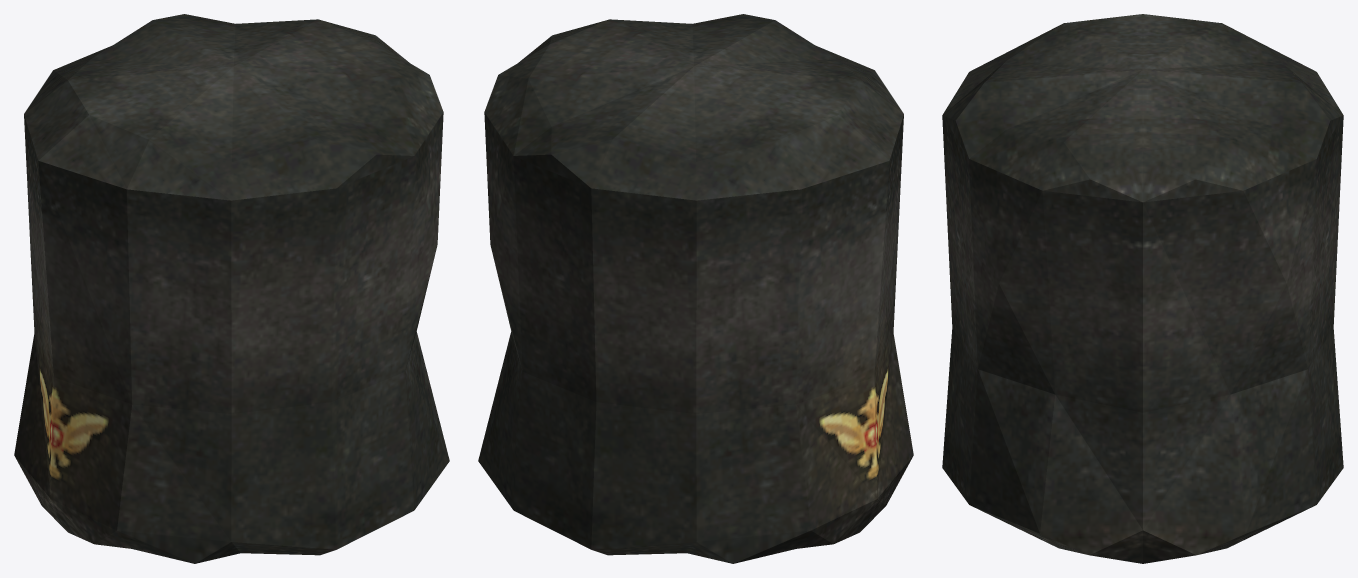
The model's file is Sheep_russiaHat.obj.
The picture shows the model from 3 angles, left to right: view 1: azimuth 30°, elevation 25°; view 2: azimuth 150°, elevation 25°; view 3: azimuth 270°, elevation 25°; orthographic projection. The views are drawn at different scales.
Visible parts, largest first — view 1: Sheep_russiaHat_tri; view 2: Sheep_russiaHat_tri; view 3: Sheep_russiaHat_tri.
Part boxes in pixels (x1,y1,x2,y2): Sheep_russiaHat_tri: [14, 14, 449, 563]; Sheep_russiaHat_tri: [478, 14, 913, 563]; Sheep_russiaHat_tri: [942, 14, 1343, 563].
Bounding box in the file's own units: 0.309 × 0.3324 × 0.2912.
Materials: 1 (1 with a texture image).
